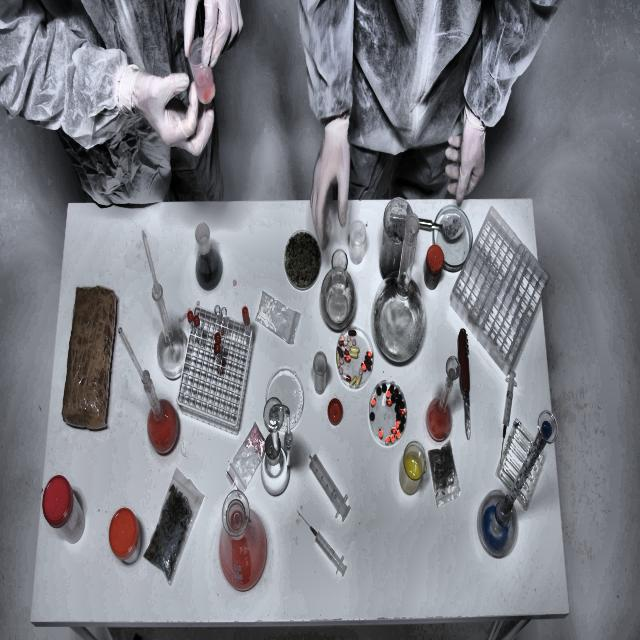gloved: (121, 62, 217, 174), (310, 110, 362, 262), (182, 0, 246, 97), (440, 105, 490, 212)
